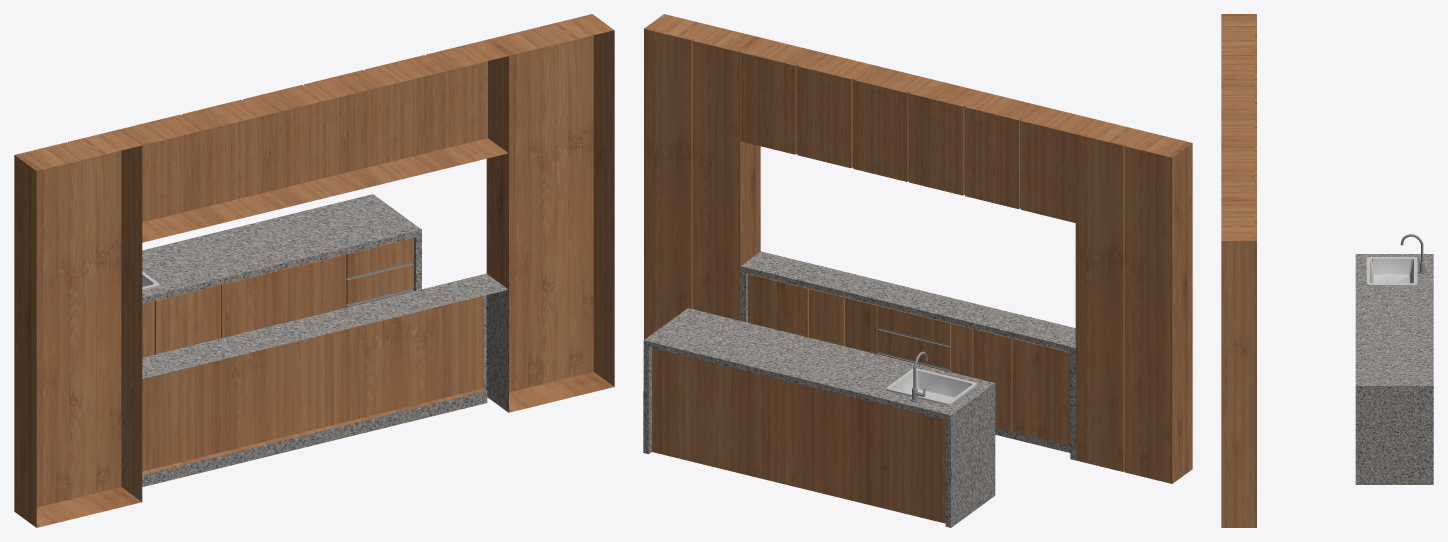
The model's file is MSH_Cocina_Terraza_20.FBX.
The picture shows the model from 3 angles, left to right: view 1: azimuth 30°, elevation 25°; view 2: azimuth 150°, elevation 25°; view 3: azimuth 270°, elevation 25°; orthographic projection. The views are drawn at different scales.
Visible parts, largest first — view 1: MSH_Cocina_Terraza_20; view 2: MSH_Cocina_Terraza_20; view 3: MSH_Cocina_Terraza_20.
Boxes of the visible parts, bbox=[...] form: MSH_Cocina_Terraza_20: bbox=[14, 14, 614, 527]; MSH_Cocina_Terraza_20: bbox=[643, 14, 1192, 527]; MSH_Cocina_Terraza_20: bbox=[1221, 14, 1433, 527].
Size of the model in its own units: 492 by 290 by 194.
